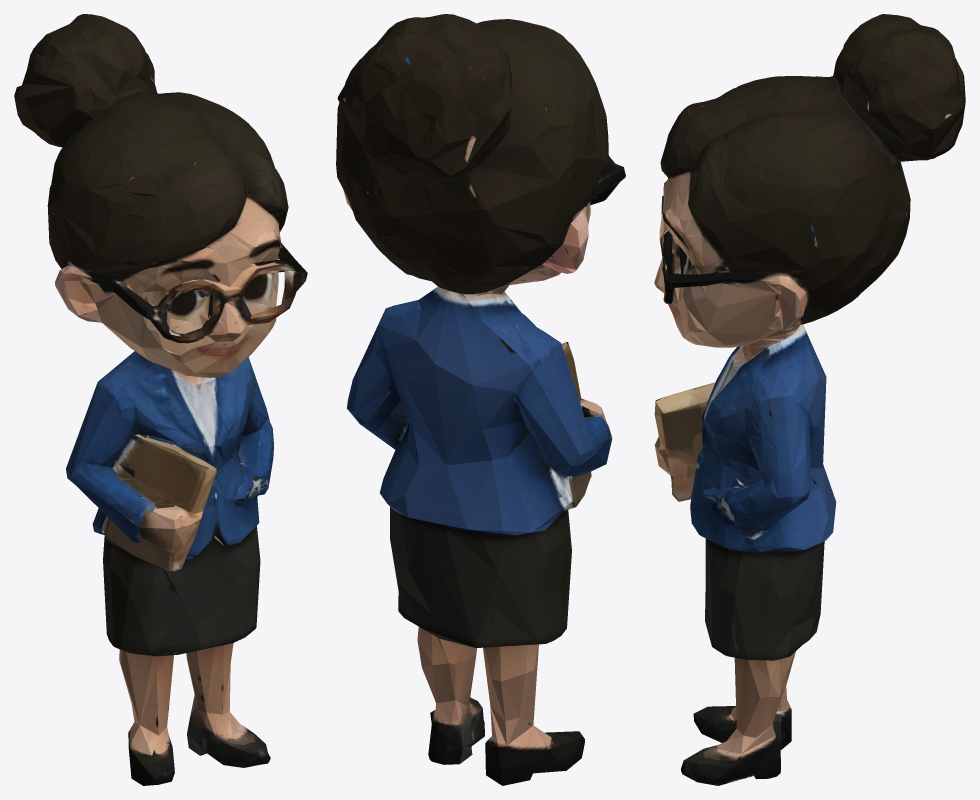
File: npc_woman_1.glb
3 renders of one model, left to right at view 1: azimuth 30°, elevation 25°; view 2: azimuth 150°, elevation 25°; view 3: azimuth 270°, elevation 25°, orthographic. The views are drawn at different scales.
Parts seen in each view (by area): view 1: geometry_0; view 2: geometry_0; view 3: geometry_0.
Boxes of the visible parts, x1,y1,x2,y2 form: geometry_0: (14, 14, 307, 785); geometry_0: (336, 14, 625, 785); geometry_0: (654, 14, 965, 785).
Bounding box in the file's own units: 0.6332 × 1.99 × 0.7812.
Materials: 1 (1 with a texture image).
